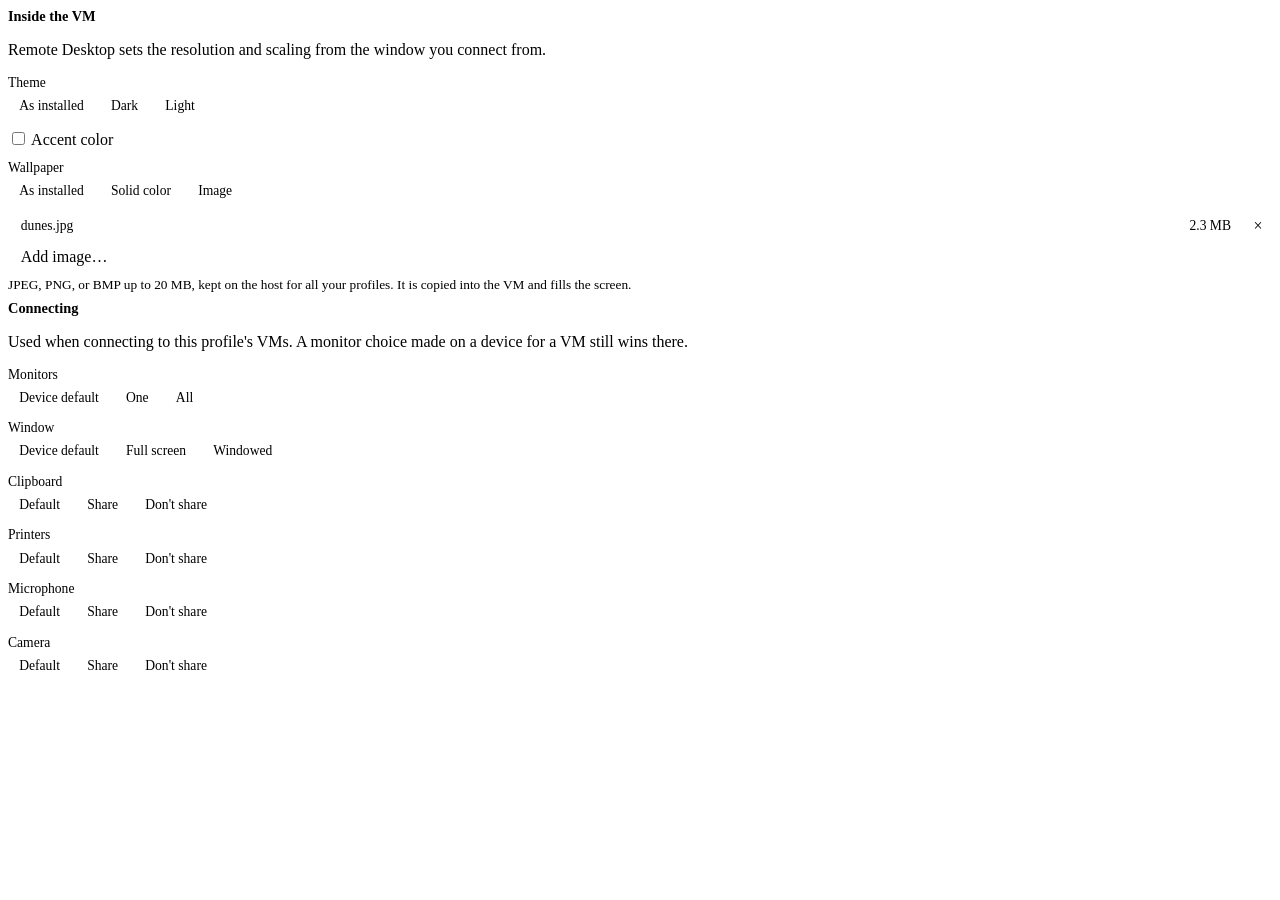
DisplaySection wallpaper images › deletes an image and says when the chosen one is missing
The width and height of the screenshot is (1280, 900).
Expected: the radio button labelled "dunes.jpg 2.3 MB" is shown, [8,213,1244,239]
Click the button named "Delete dunes.jpg" at [1258, 226], box [1244,213,1272,239]
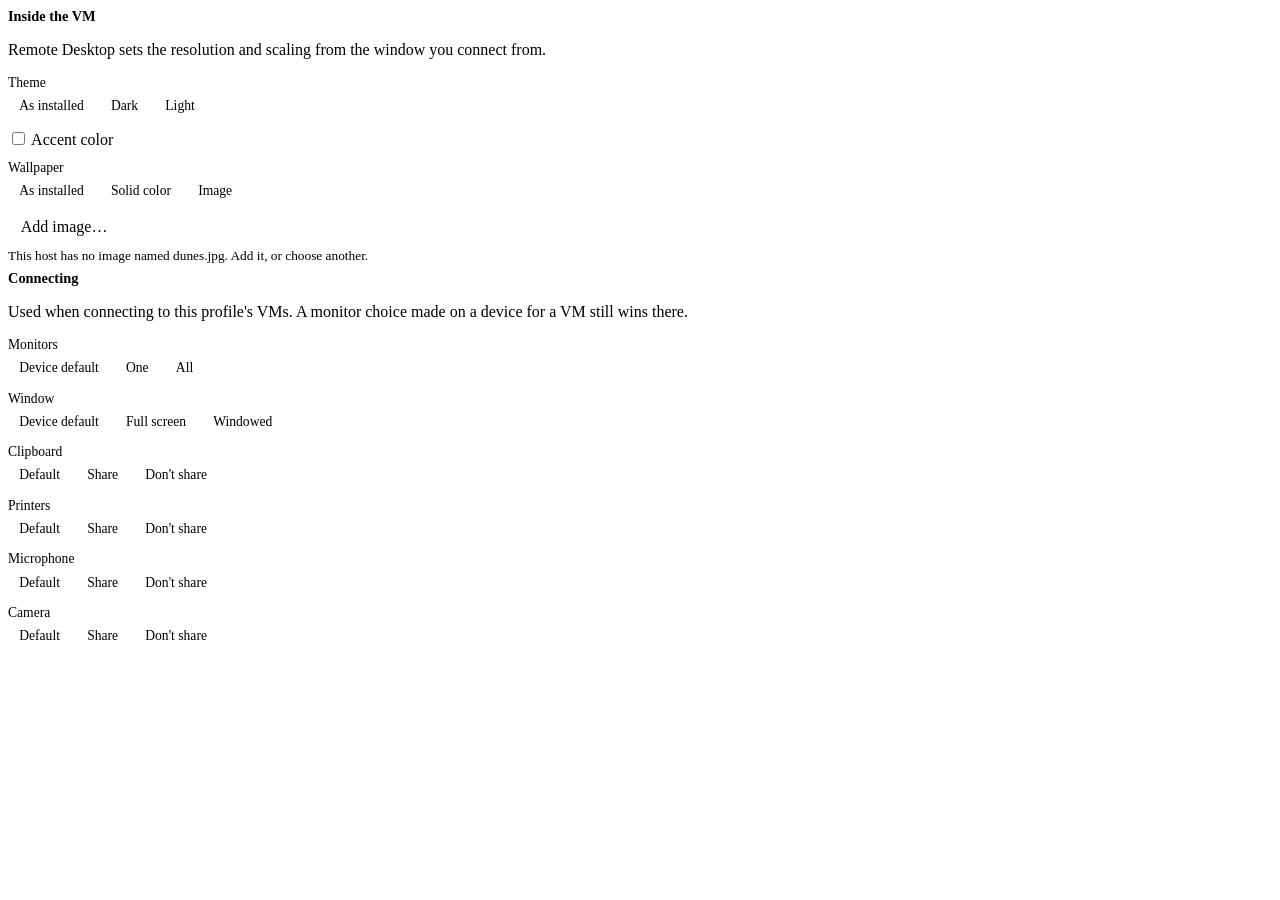
Expected: the text "This host has no image named dunes.jpg" is shown, [8,248,368,263]
